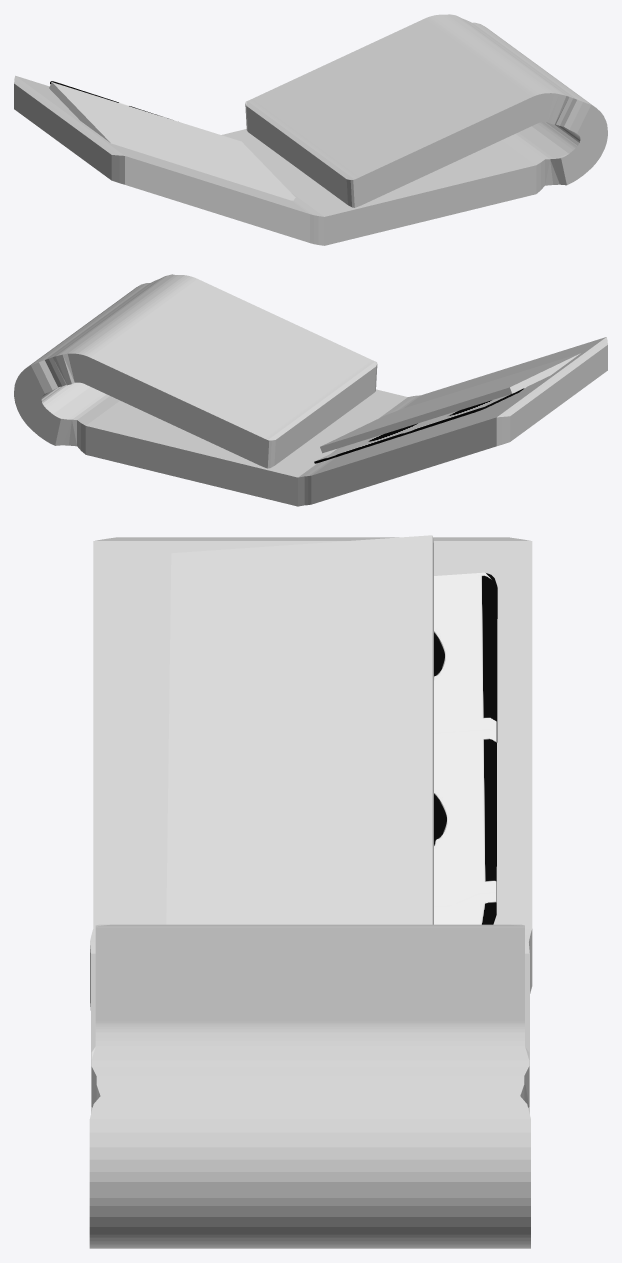
Rendered from wallet.dae.
3 renders of one model, top to bottom at view 1: azimuth 30°, elevation 25°; view 2: azimuth 150°, elevation 25°; view 3: azimuth 270°, elevation 25°, orthographic. The views are drawn at different scales.
Parts seen in each view (by area): view 1: Cube, Cube.001; view 2: Cube, Cube.001, Cube.002; view 3: Cube, Cube.001, Cube.002.
Boxes of the visible parts, bbox=[...] form: Cube: bbox=[14, 14, 607, 245]; Cube.001: bbox=[49, 82, 295, 200]; Cube: bbox=[14, 274, 607, 506]; Cube.001: bbox=[320, 353, 580, 453]; Cube.002: bbox=[314, 387, 525, 463]; Cube: bbox=[89, 537, 532, 1248]; Cube.001: bbox=[166, 535, 433, 924]; Cube.002: bbox=[434, 572, 497, 924].
Size of the model in its own units: 5.45 by 2.13 by 1.56.
Materials: 2 (1 with a texture image).
